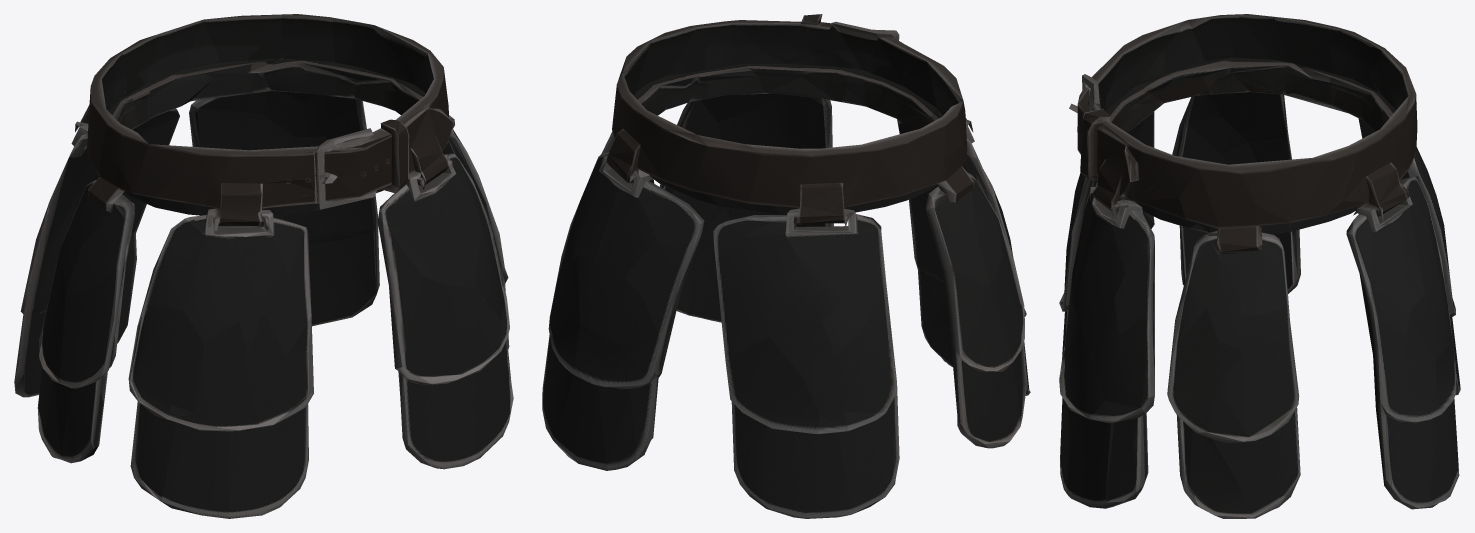
The model's file is tassets.glb.
The picture shows the model from 3 angles, left to right: view 1: azimuth 30°, elevation 25°; view 2: azimuth 150°, elevation 25°; view 3: azimuth 270°, elevation 25°; orthographic projection. The views are drawn at different scales.
Visible parts, largest first — view 1: Mesh_0; view 2: Mesh_0; view 3: Mesh_0.
Part boxes in pixels (x1,y1,x2,y2): Mesh_0: [14, 14, 513, 518]; Mesh_0: [542, 14, 1030, 518]; Mesh_0: [1059, 14, 1460, 518].
Size of the model in its own units: 1.9 by 1.44 by 1.49.
1 material, 1 textured.
